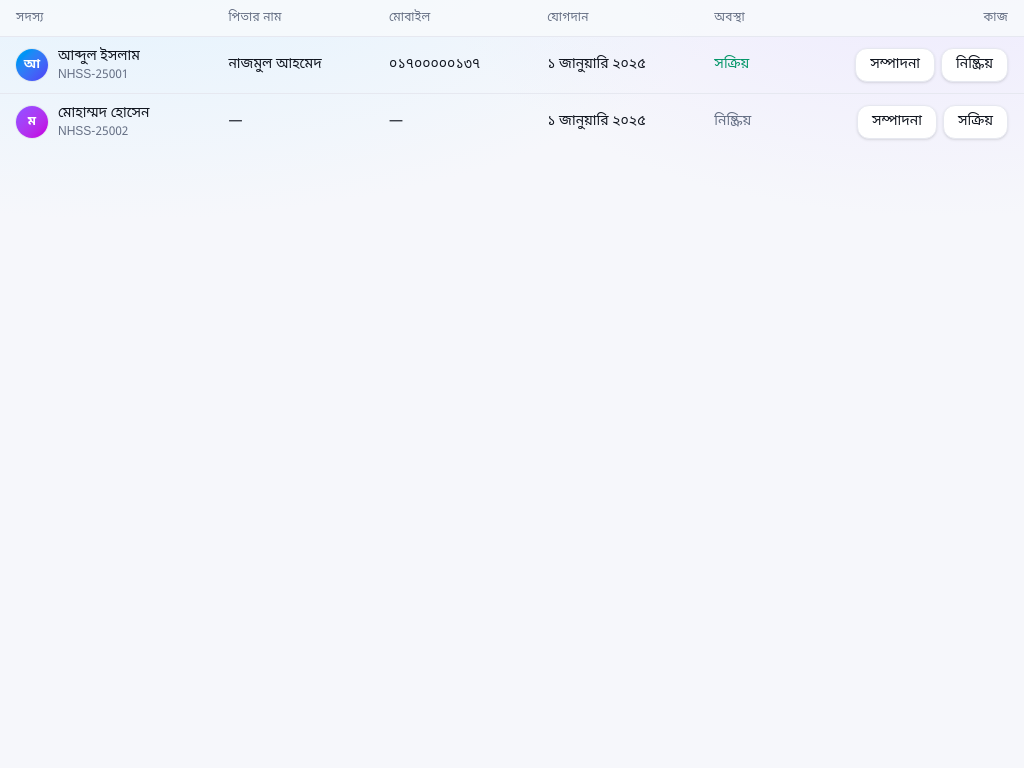
Test: admin members table › opens an edit dialog prefilled with the member
Click the button "সম্পাদনা" in the row of "আব্দুল ইসলাম". click: coordinates (895, 65)
box: left=855, top=48, right=935, bottom=82
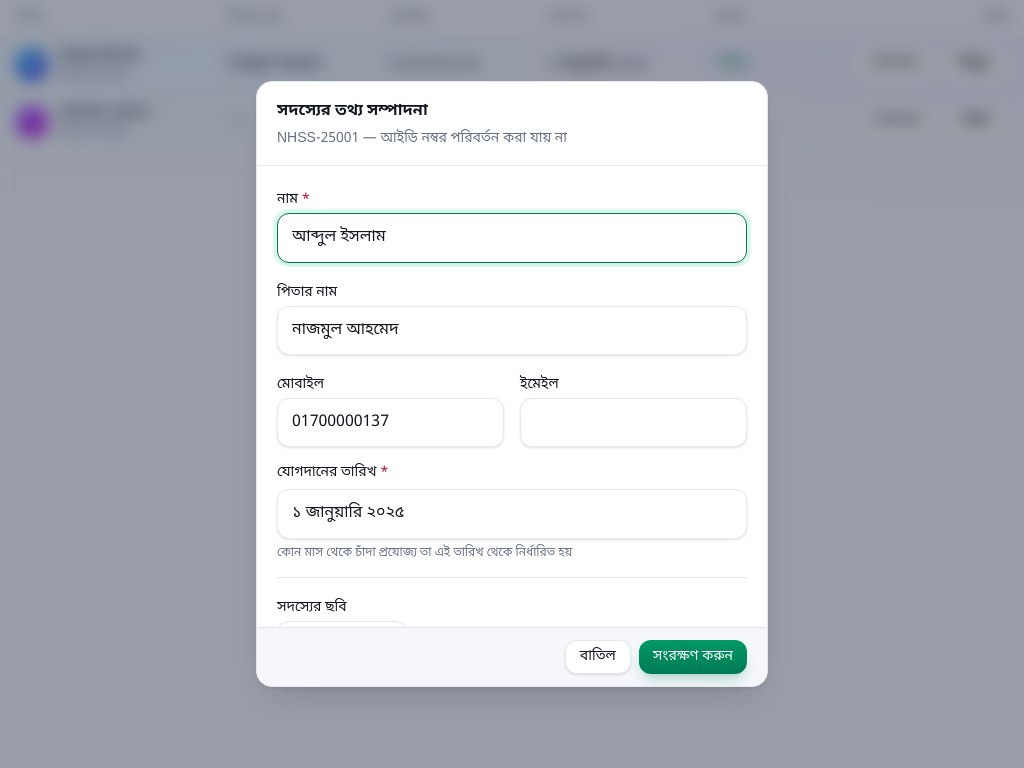
Expected: the field labelled "নাম *" holds "আব্দুল ইসলাম", left=277, top=213, right=747, bottom=263
Expected: the field labelled "পিতার নাম" holds "নাজমুল আহমেদ", left=277, top=306, right=747, bottom=355
Expected: the field labelled "মোবাইল" holds "01700000137", left=277, top=398, right=504, bottom=447
